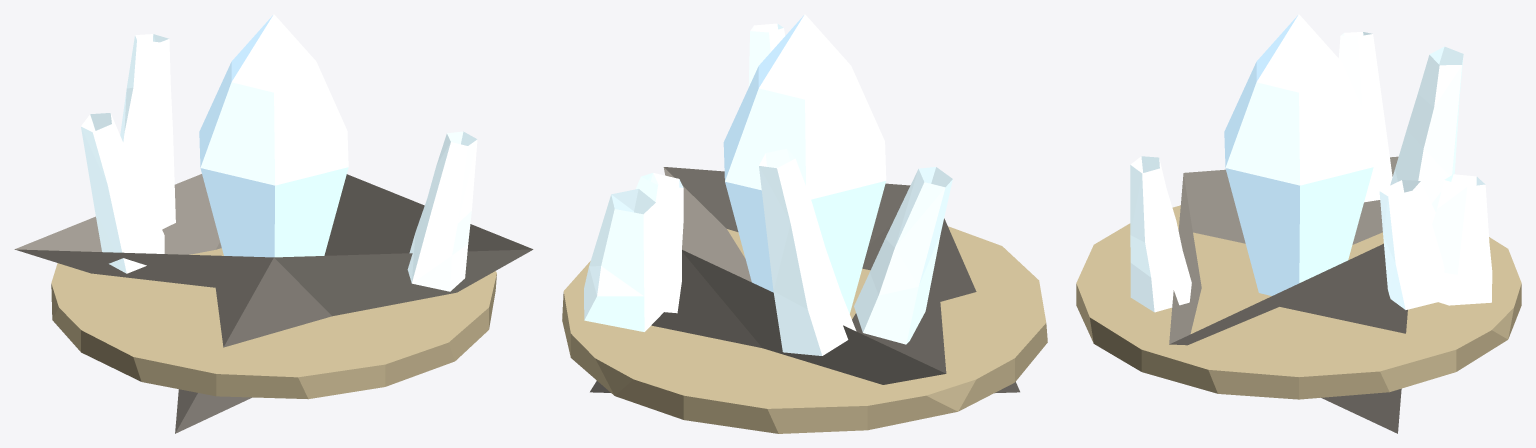
File: 15-Recursos_cristal_ancestral.glb
The picture shows the model from 3 angles, left to right: view 1: azimuth 30°, elevation 25°; view 2: azimuth 150°, elevation 25°; view 3: azimuth 270°, elevation 25°; orthographic projection. The views are drawn at different scales.
Parts seen in each view (by area): view 1: SM_Cristal_M_Talla_Cristal, SM_Cristal_M_Pedestal_Cristal, SM_Cristal_M_Cristal_Ancestral_Central, SM_Cristal_M_Cristal_Ancestral_Claro; view 2: SM_Cristal_M_Talla_Cristal, SM_Cristal_M_Cristal_Ancestral_Claro, SM_Cristal_M_Cristal_Ancestral_Central, SM_Cristal_M_Pedestal_Cristal; view 3: SM_Cristal_M_Talla_Cristal, SM_Cristal_M_Cristal_Ancestral_Claro, SM_Cristal_M_Cristal_Ancestral_Central, SM_Cristal_M_Pedestal_Cristal.
Part boxes in pixels (<box>): SM_Cristal_M_Talla_Cristal: <box>51,248,496,399</box>; SM_Cristal_M_Pedestal_Cristal: <box>14,174,533,433</box>; SM_Cristal_M_Cristal_Ancestral_Central: <box>199,14,348,257</box>; SM_Cristal_M_Cristal_Ancestral_Claro: <box>81,34,477,291</box>; SM_Cristal_M_Talla_Cristal: <box>562,226,1047,433</box>; SM_Cristal_M_Cristal_Ancestral_Claro: <box>584,23,952,355</box>; SM_Cristal_M_Cristal_Ancestral_Central: <box>723,14,886,313</box>; SM_Cristal_M_Pedestal_Cristal: <box>590,167,1019,393</box>; SM_Cristal_M_Talla_Cristal: <box>1076,205,1521,399</box>; SM_Cristal_M_Cristal_Ancestral_Claro: <box>1130,32,1492,312</box>; SM_Cristal_M_Cristal_Ancestral_Central: <box>1224,14,1373,295</box>; SM_Cristal_M_Pedestal_Cristal: <box>1169,156,1407,433</box>.
Size of the model in its own units: 0.7275 by 0.62 by 0.72.
